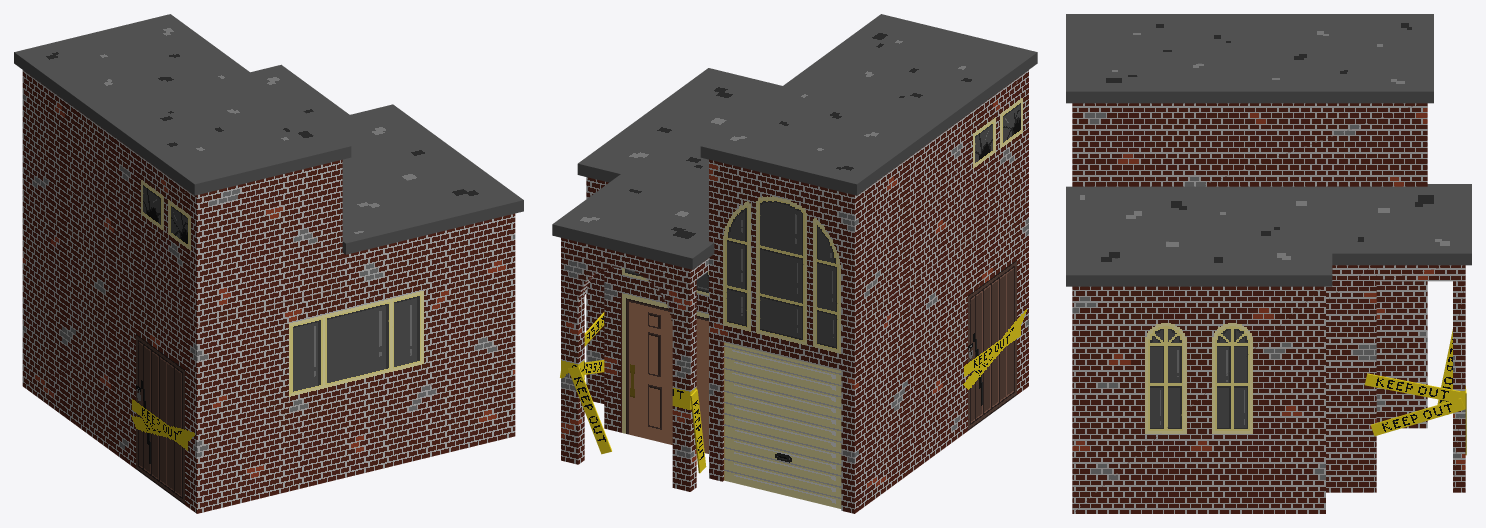
3 views of the same model, side by side, from view 1: azimuth 30°, elevation 25°; view 2: azimuth 150°, elevation 25°; view 3: azimuth 270°, elevation 25° (orthographic).
Parts seen in each view (by area): view 1: Garage-Local, 2F-Local, Roof1-Local, Door-Local, Roof2-Local, Side-Local; view 2: Garage-Local, 2F-Local, Roof1-Local, Roof2-Local, Door-Local, Gate-Local, R_Gate-Local, L_Gate-Local, Side-Local, Tape1-Local, Tape4-Local; view 3: Side-Local, Roof2-Local, Roof1-Local, 2F-Local, Door-Local, Garage-Local, Gate-Local, L_Gate-Local, Tape2-Local, Tape3-Local.
Boxes of the visible parts, x1=… form: Garage-Local: x1=22, y1=196, x2=342, y2=513; 2F-Local: x1=22, y1=70, x2=342, y2=323; Roof1-Local: x1=14, y1=14, x2=351, y2=195; Door-Local: x1=342, y1=224, x2=472, y2=478; Roof2-Local: x1=250, y1=64, x2=523, y2=254; Side-Local: x1=472, y1=213, x2=515, y2=446; Garage-Local: x1=709, y1=196, x2=1028, y2=513; 2F-Local: x1=709, y1=70, x2=1028, y2=323; Roof1-Local: x1=700, y1=14, x2=1037, y2=195; Roof2-Local: x1=552, y1=68, x2=782, y2=269; Door-Local: x1=604, y1=267, x2=708, y2=453; Gate-Local: x1=561, y1=238, x2=708, y2=350; R_Gate-Local: x1=672, y1=346, x2=696, y2=491; L_Gate-Local: x1=561, y1=319, x2=584, y2=464; Side-Local: x1=586, y1=177, x2=608, y2=403; Tape1-Local: x1=568, y1=366, x2=611, y2=454; Tape4-Local: x1=690, y1=389, x2=706, y2=473; Side-Local: x1=1072, y1=286, x2=1325, y2=513; Roof2-Local: x1=1066, y1=184, x2=1471, y2=286; Roof1-Local: x1=1066, y1=14, x2=1433, y2=103; 2F-Local: x1=1072, y1=103, x2=1427, y2=186; Door-Local: x1=1326, y1=265, x2=1376, y2=492; Garage-Local: x1=1376, y1=281, x2=1427, y2=428; Gate-Local: x1=1376, y1=265, x2=1465, y2=348; L_Gate-Local: x1=1453, y1=349, x2=1465, y2=492; Tape2-Local: x1=1364, y1=373, x2=1460, y2=402; Tape3-Local: x1=1370, y1=398, x2=1464, y2=435.
Bounding box in the file's own units: 244 × 236 × 256.
Materials: 13 (13 with a texture image).
